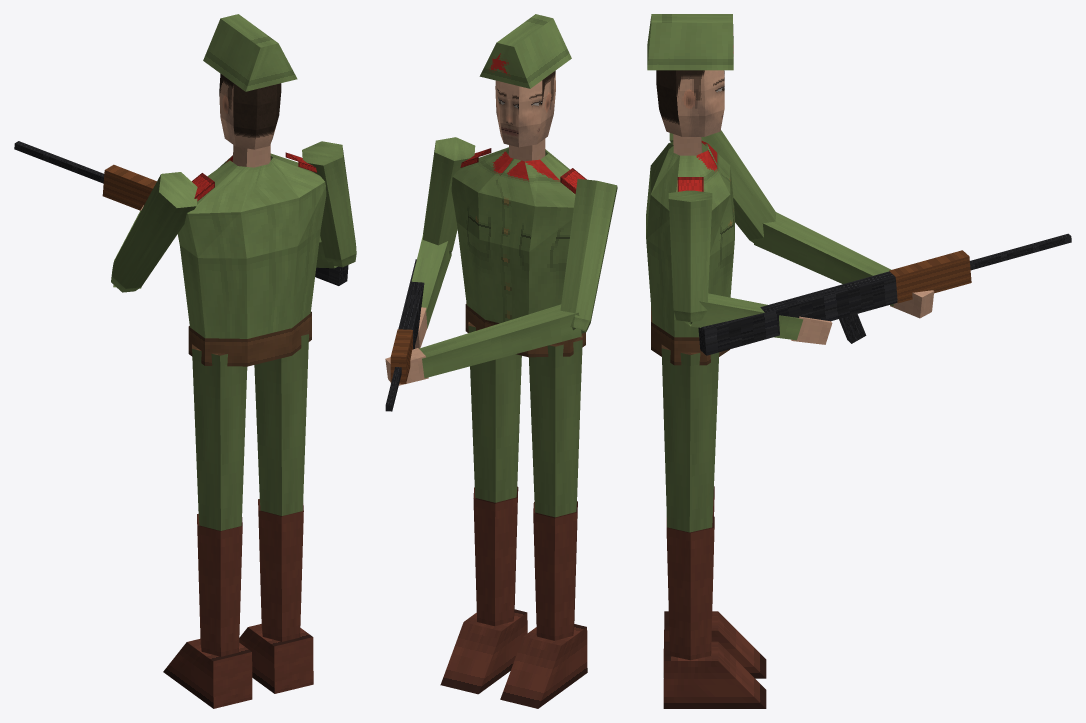
File: guard.obj
3 views of the same model, side by side, from view 1: azimuth 30°, elevation 25°; view 2: azimuth 150°, elevation 25°; view 3: azimuth 270°, elevation 25° (orthographic). The views are drawn at different scales.
Visible parts, largest first — view 1: torso, shin_r, shin_l, thigh_r, thigh_l, arm_r, cap, head, arm_l, hips, rifle; view 2: torso, shin_r, shin_l, thigh_r, thigh_l, forearm_r, arm_r, cap, head, arm_l, rifle, forearm_l (+1 smaller); view 3: shin_l, rifle, torso, thigh_l, arm_l, forearm_r, cap, head, arm_r, forearm_l, shin_r, hips.
Part boxes in pixels (box(x1,y1,x2,y2)): torso: box(177, 152, 326, 338); shin_r: box(163, 514, 252, 708); shin_l: box(239, 499, 313, 693); thigh_r: box(192, 344, 247, 531); thigh_l: box(254, 330, 308, 516); arm_r: box(111, 172, 197, 292); cap: box(203, 14, 297, 91); head: box(219, 73, 281, 167); arm_l: box(302, 141, 356, 267); hips: box(188, 311, 311, 366); rifle: box(14, 141, 348, 285); torso: box(451, 147, 586, 323); shin_r: box(500, 501, 587, 708); shin_l: box(440, 486, 527, 694); thigh_r: box(529, 335, 582, 518); thigh_l: box(468, 322, 521, 503); forearm_r: box(385, 304, 581, 385); arm_r: box(560, 178, 617, 333); cap: box(479, 14, 571, 88); head: box(495, 70, 555, 161); arm_l: box(423, 137, 475, 255); rifle: box(385, 259, 424, 411); forearm_l: box(411, 234, 451, 348); shin_l: box(663, 516, 766, 708); rifle: box(698, 233, 1071, 355); torso: box(646, 141, 734, 337); thigh_l: box(661, 344, 719, 533); arm_l: box(668, 190, 712, 326); forearm_r: box(754, 212, 934, 318); cap: box(647, 14, 733, 70); head: box(656, 70, 724, 155); arm_r: box(669, 130, 776, 242); forearm_l: box(688, 293, 832, 344); shin_r: box(663, 486, 766, 678); hips: box(651, 307, 729, 365).
Size of the model in its own units: 40.42 by 122 by 70.57.
41 materials, 41 textured.
